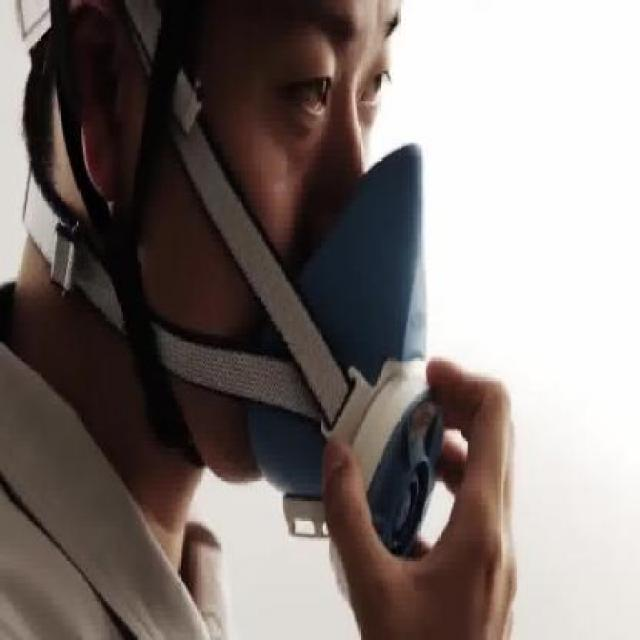Mask: (239, 133, 447, 549)
